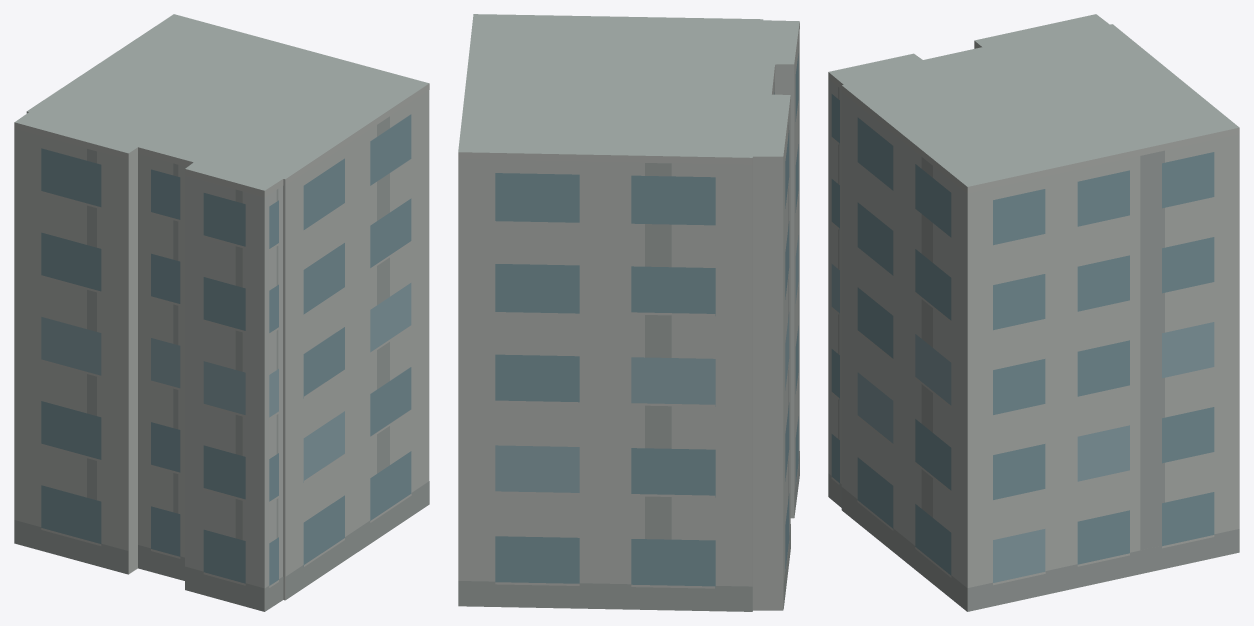
The model's file is survey-upis-32953161.glb.
3 views of the same model, side by side, from view 1: azimuth 30°, elevation 25°; view 2: azimuth 150°, elevation 25°; view 3: azimuth 270°, elevation 25° (orthographic). The views are drawn at different scales.
Visible parts, largest first — view 1: survey-upis-32953161.tmp; view 2: survey-upis-32953161.tmp; view 3: survey-upis-32953161.tmp.
Boxes of the visible parts, bbox=[...] form: survey-upis-32953161.tmp: bbox=[14, 14, 429, 611]; survey-upis-32953161.tmp: bbox=[458, 14, 799, 611]; survey-upis-32953161.tmp: bbox=[828, 14, 1239, 611].
Size of the model in its own units: 13.54 by 15.5 by 13.61.
